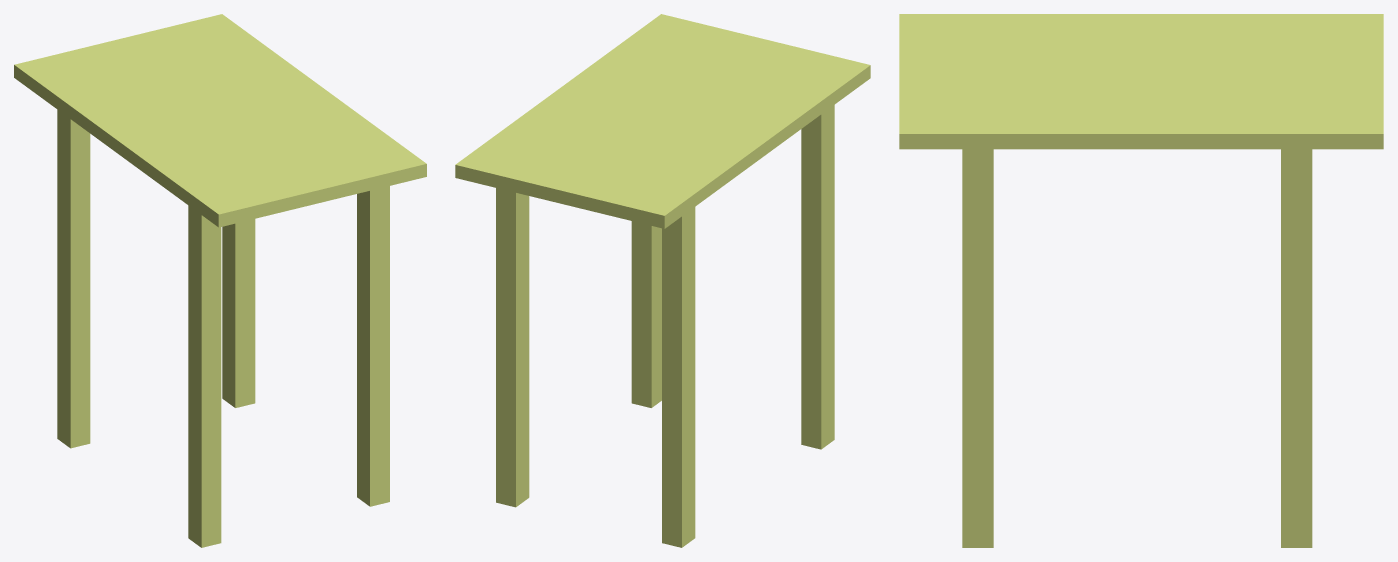
The model's file is Table.fbx.
3 views of the same model, side by side, from view 1: azimuth 30°, elevation 25°; view 2: azimuth 150°, elevation 25°; view 3: azimuth 270°, elevation 25° (orthographic). The views are drawn at different scales.
Parts seen in each view (by area): view 1: Cube.001; view 2: Cube.001; view 3: Cube.001.
Part boxes in pixels (left/top/right/bottom): Cube.001: left=14, top=14, right=426, bottom=547; Cube.001: left=455, top=14, right=870, bottom=547; Cube.001: left=899, top=14, right=1383, bottom=547.
Bounding box in the file's own units: 435 × 709 × 740.
